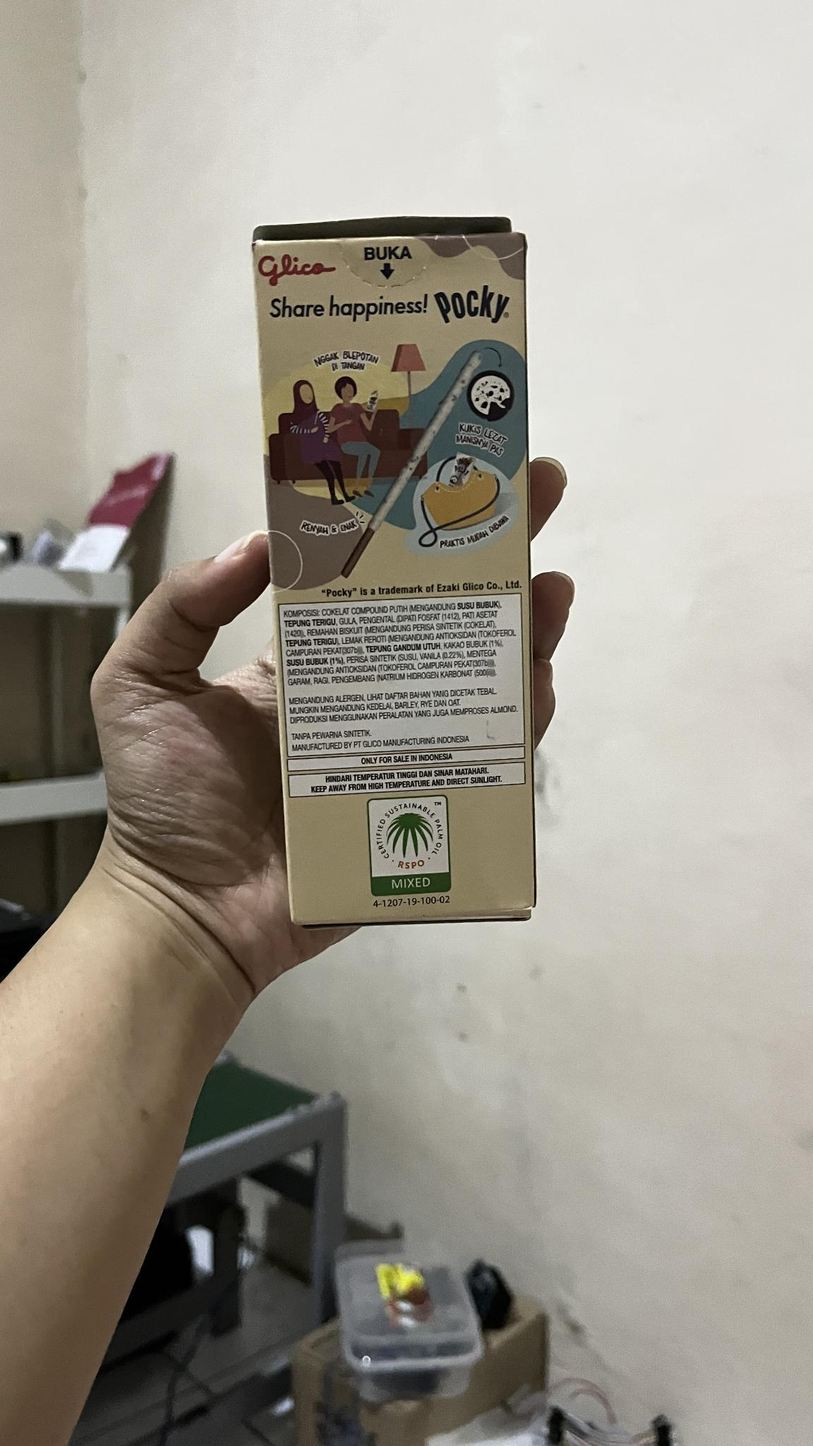Kertas: (258, 230, 541, 918)
